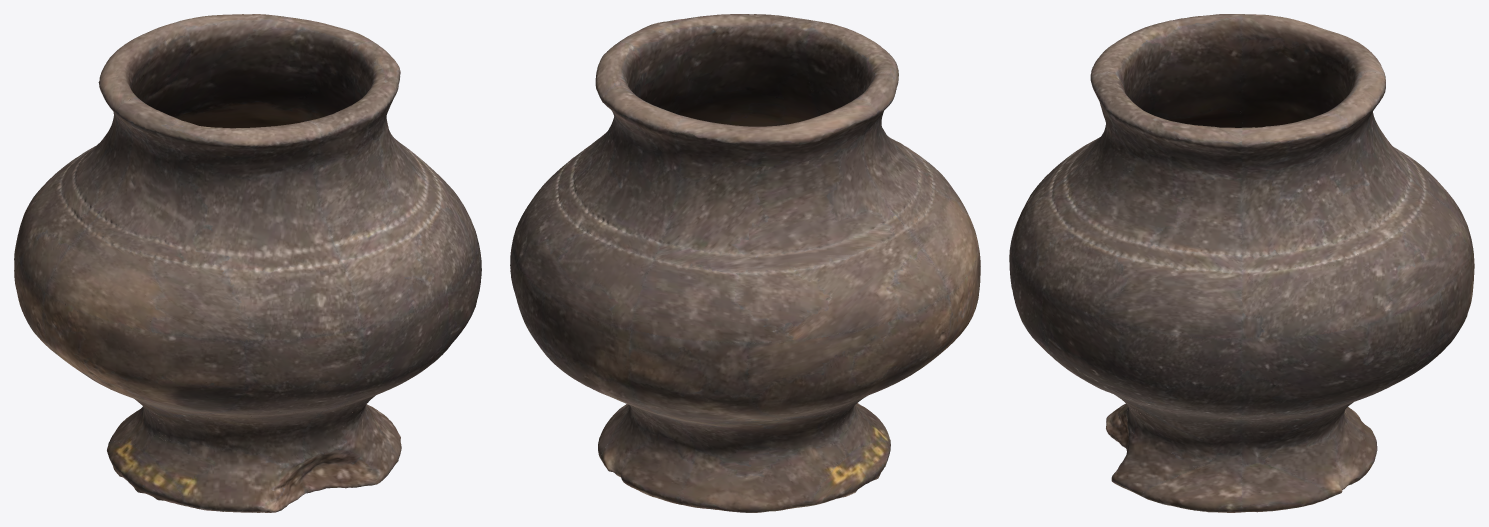
File: 静物_瓶罐_jarnalderskruka__iron-age_pot_opt.glb
3 renders of one model, left to right at view 1: azimuth 30°, elevation 25°; view 2: azimuth 150°, elevation 25°; view 3: azimuth 270°, elevation 25°, orthographic.
Parts seen in each view (by area): view 1: Object_2; view 2: Object_2; view 3: Object_2.
Part boxes in pixels (left/top/right/bottom): Object_2: left=14, top=14, right=481, bottom=512; Object_2: left=510, top=14, right=980, bottom=512; Object_2: left=1009, top=14, right=1474, bottom=512.
Bounding box in the file's own units: 0.3307 × 0.3 × 0.3307.
Materials: 1 (1 with a texture image).
